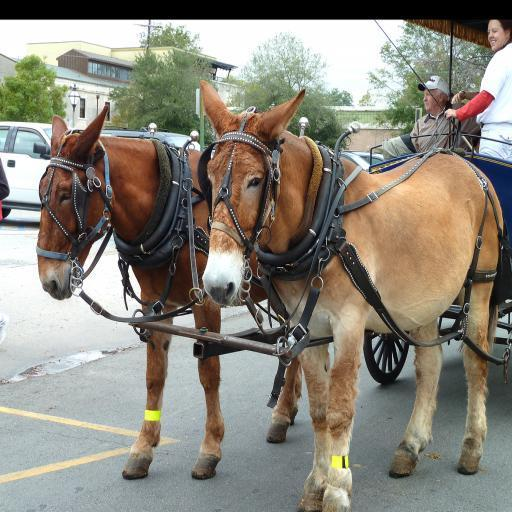horse: (200, 80, 505, 512), (36, 103, 303, 483)
